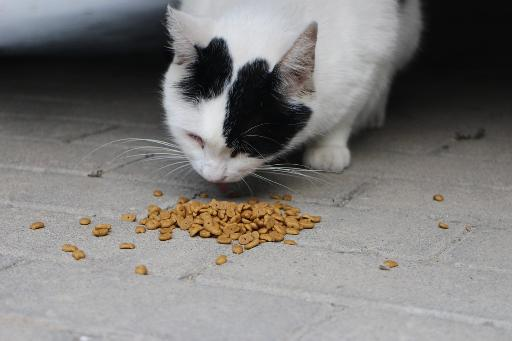cat_eating: (163, 0, 422, 190), (140, 199, 319, 253)
